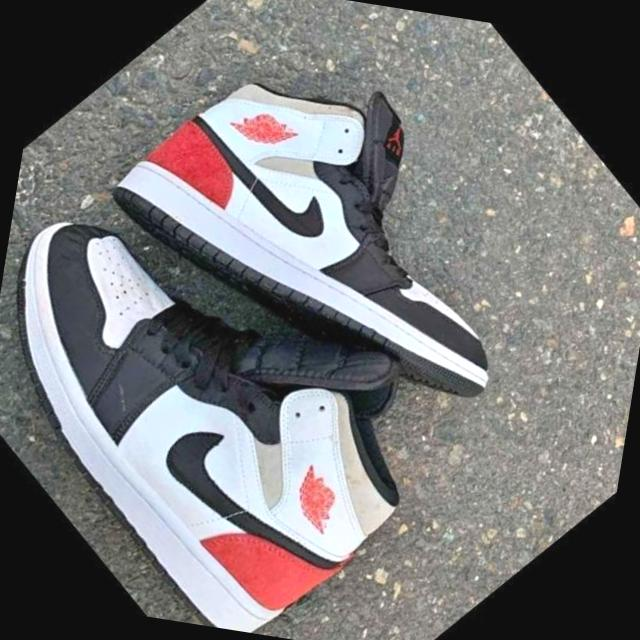nike_fake_jordan: (0, 80, 529, 640), (65, 0, 615, 519)
